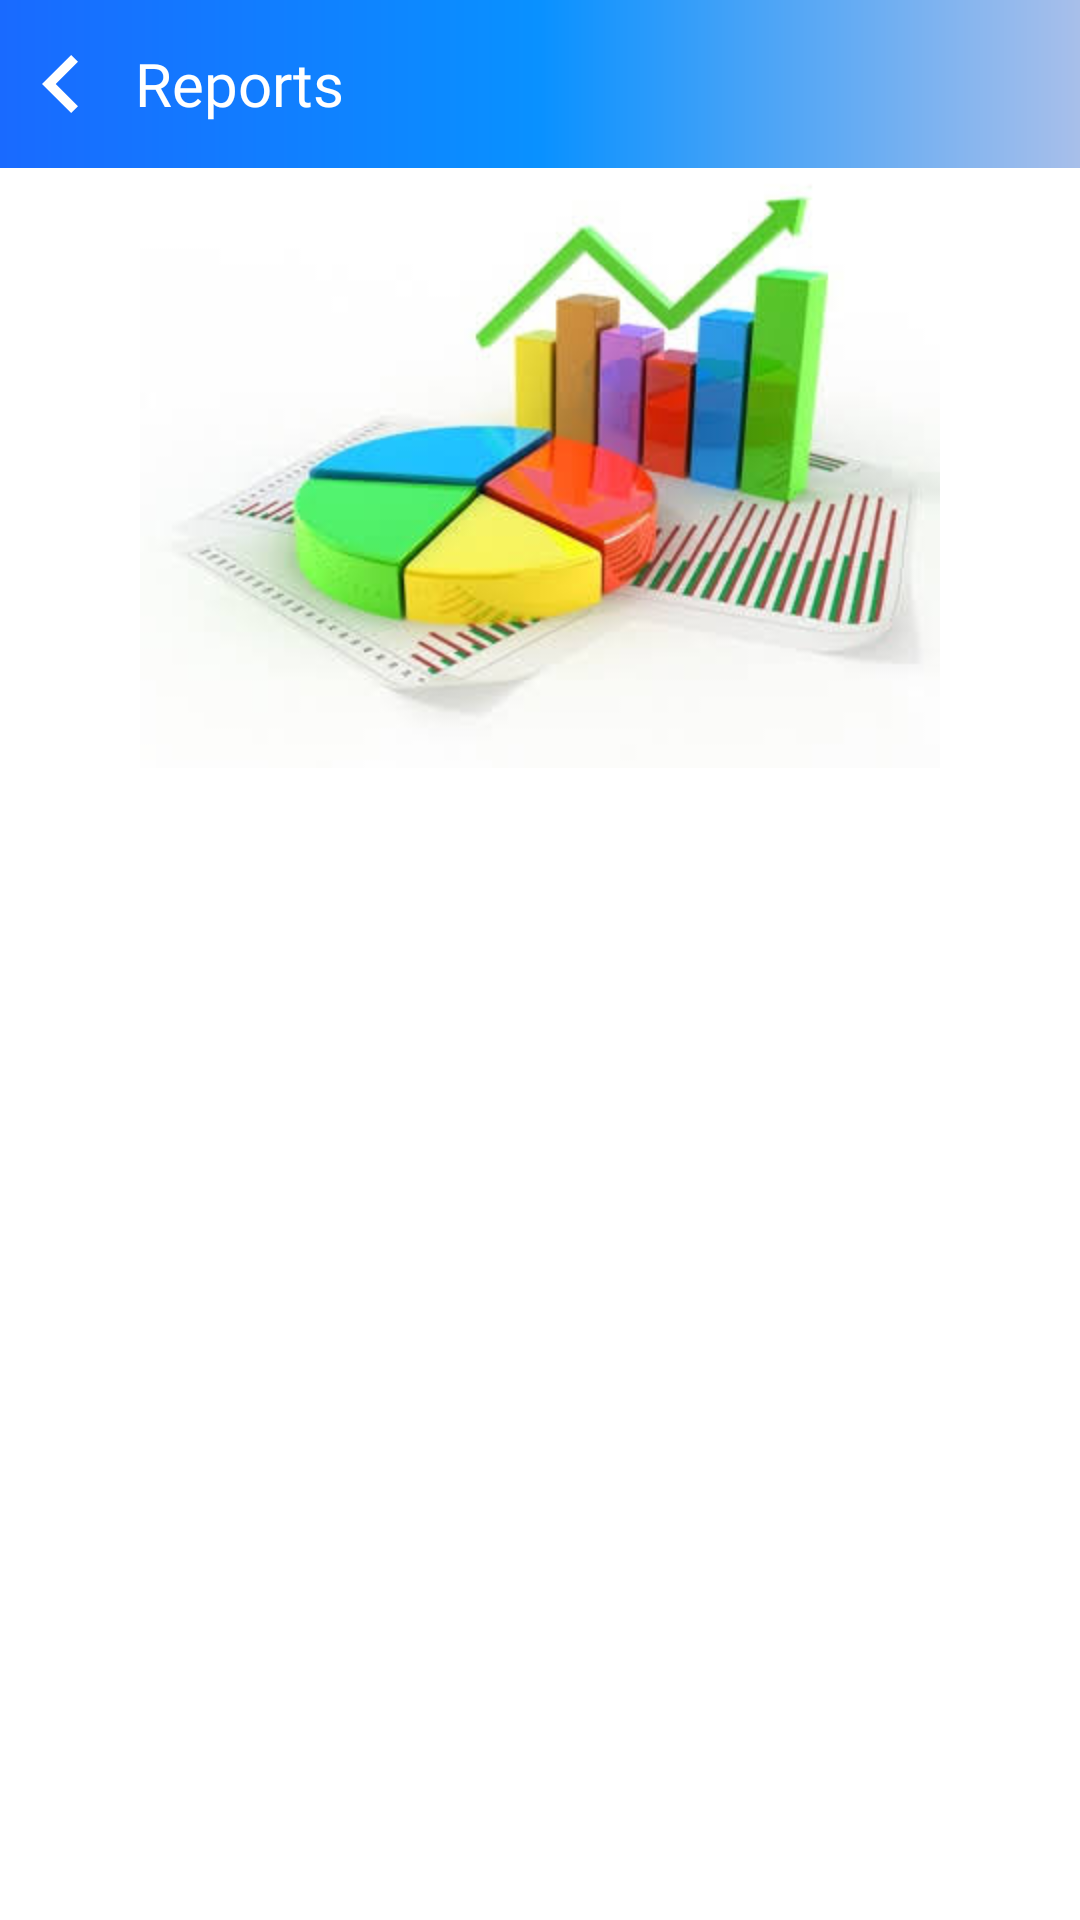

Named icons in this screenshot (1080×1920) and their centers, point (x, y):
back arror: point (60, 84)
